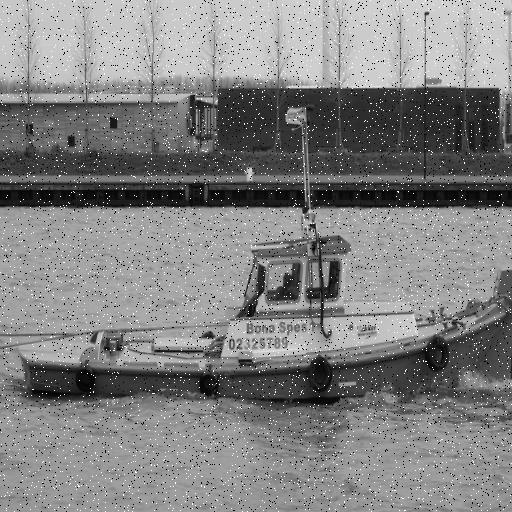tugboat: (15, 202, 512, 414)
